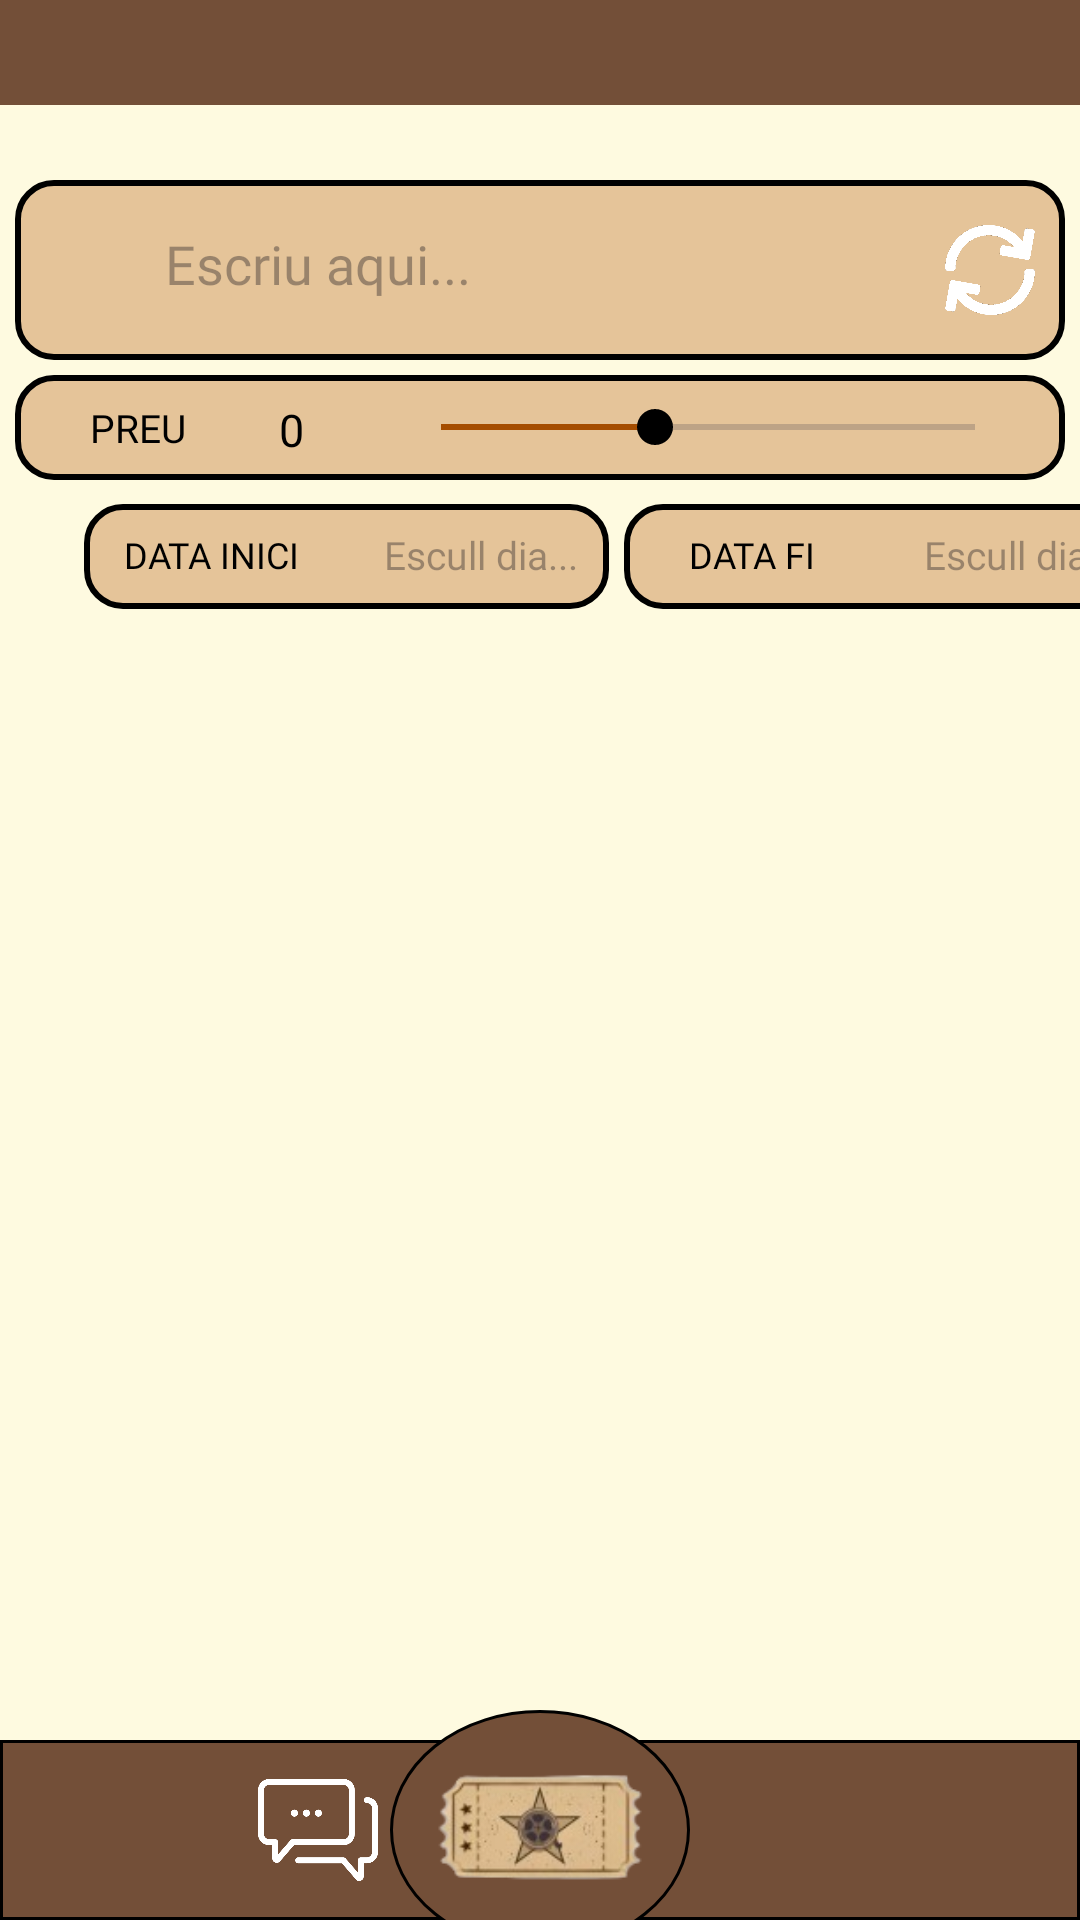

Screen size 1080 × 1920. Icon name, then its box in pixels as BBox(x1, y1, x2, y2):
chat: BBox(258, 1779, 378, 1881)
reload: BBox(945, 225, 1035, 315)
reserva: BBox(439, 1775, 642, 1880)
